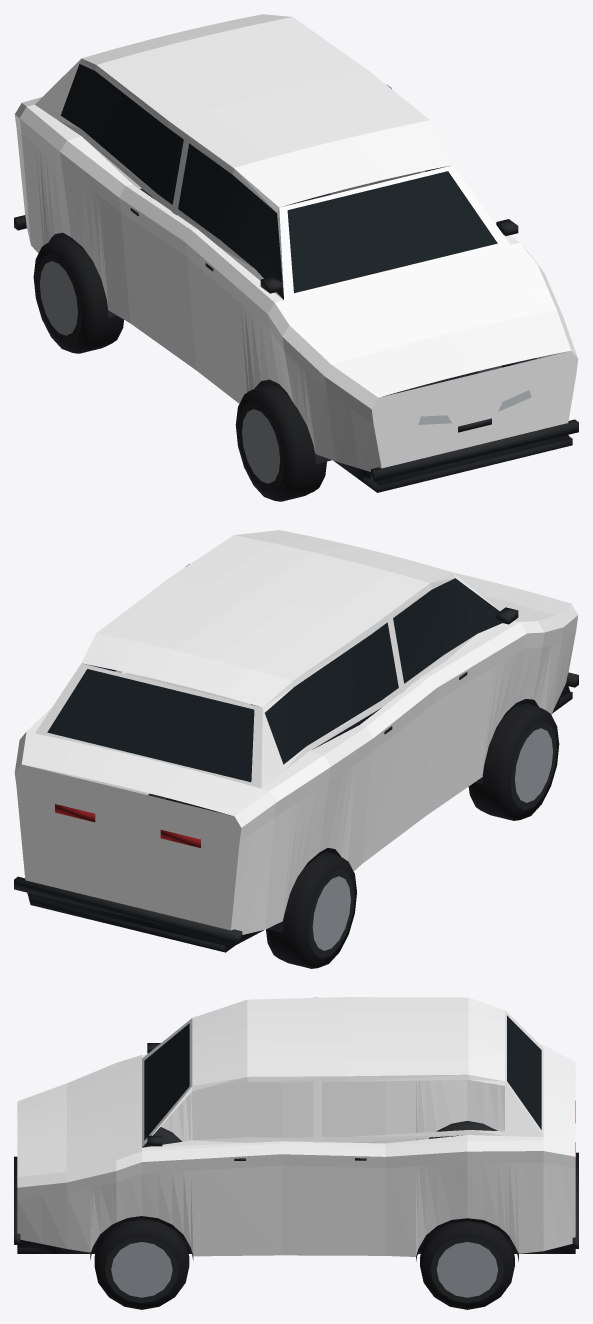
File: ridgeway_rochedo.glb
3 views of the same model, one above another, from view 1: azimuth 30°, elevation 25°; view 2: azimuth 150°, elevation 25°; view 3: azimuth 270°, elevation 25° (orthographic). The views are drawn at different scales.
Visible parts, largest first — view 1: Body_Paint, Body_Details, Mount_FrontLeft_Wheel_Details, Mount_RearLeft_Wheel_Details; view 2: Body_Paint, Body_Details, Mount_FrontLeft_Wheel_Details, Mount_RearLeft_Wheel_Details; view 3: Body_Paint, Body_Details, Mount_FrontRight_Wheel_Details, Mount_RearRight_Wheel_Details.
Boxes of the visible parts, box(x1,y1,x2,y2) form: Body_Paint: box(14, 14, 578, 471); Body_Details: box(14, 64, 578, 492); Mount_FrontLeft_Wheel_Details: box(235, 384, 326, 501); Mount_RearLeft_Wheel_Details: box(33, 237, 123, 353); Body_Paint: box(14, 530, 578, 934); Body_Details: box(14, 578, 578, 952); Mount_FrontLeft_Wheel_Details: box(468, 703, 559, 820); Mount_RearLeft_Wheel_Details: box(266, 852, 356, 968); Body_Paint: box(17, 997, 575, 1256); Body_Details: box(14, 1015, 578, 1261); Mount_FrontRight_Wheel_Details: box(94, 1219, 189, 1309); Mount_RearRight_Wheel_Details: box(420, 1221, 514, 1309).
Size of the model in its own units: 2.17 by 2.12 by 4.82.
Materials: 2 (1 with a texture image).
